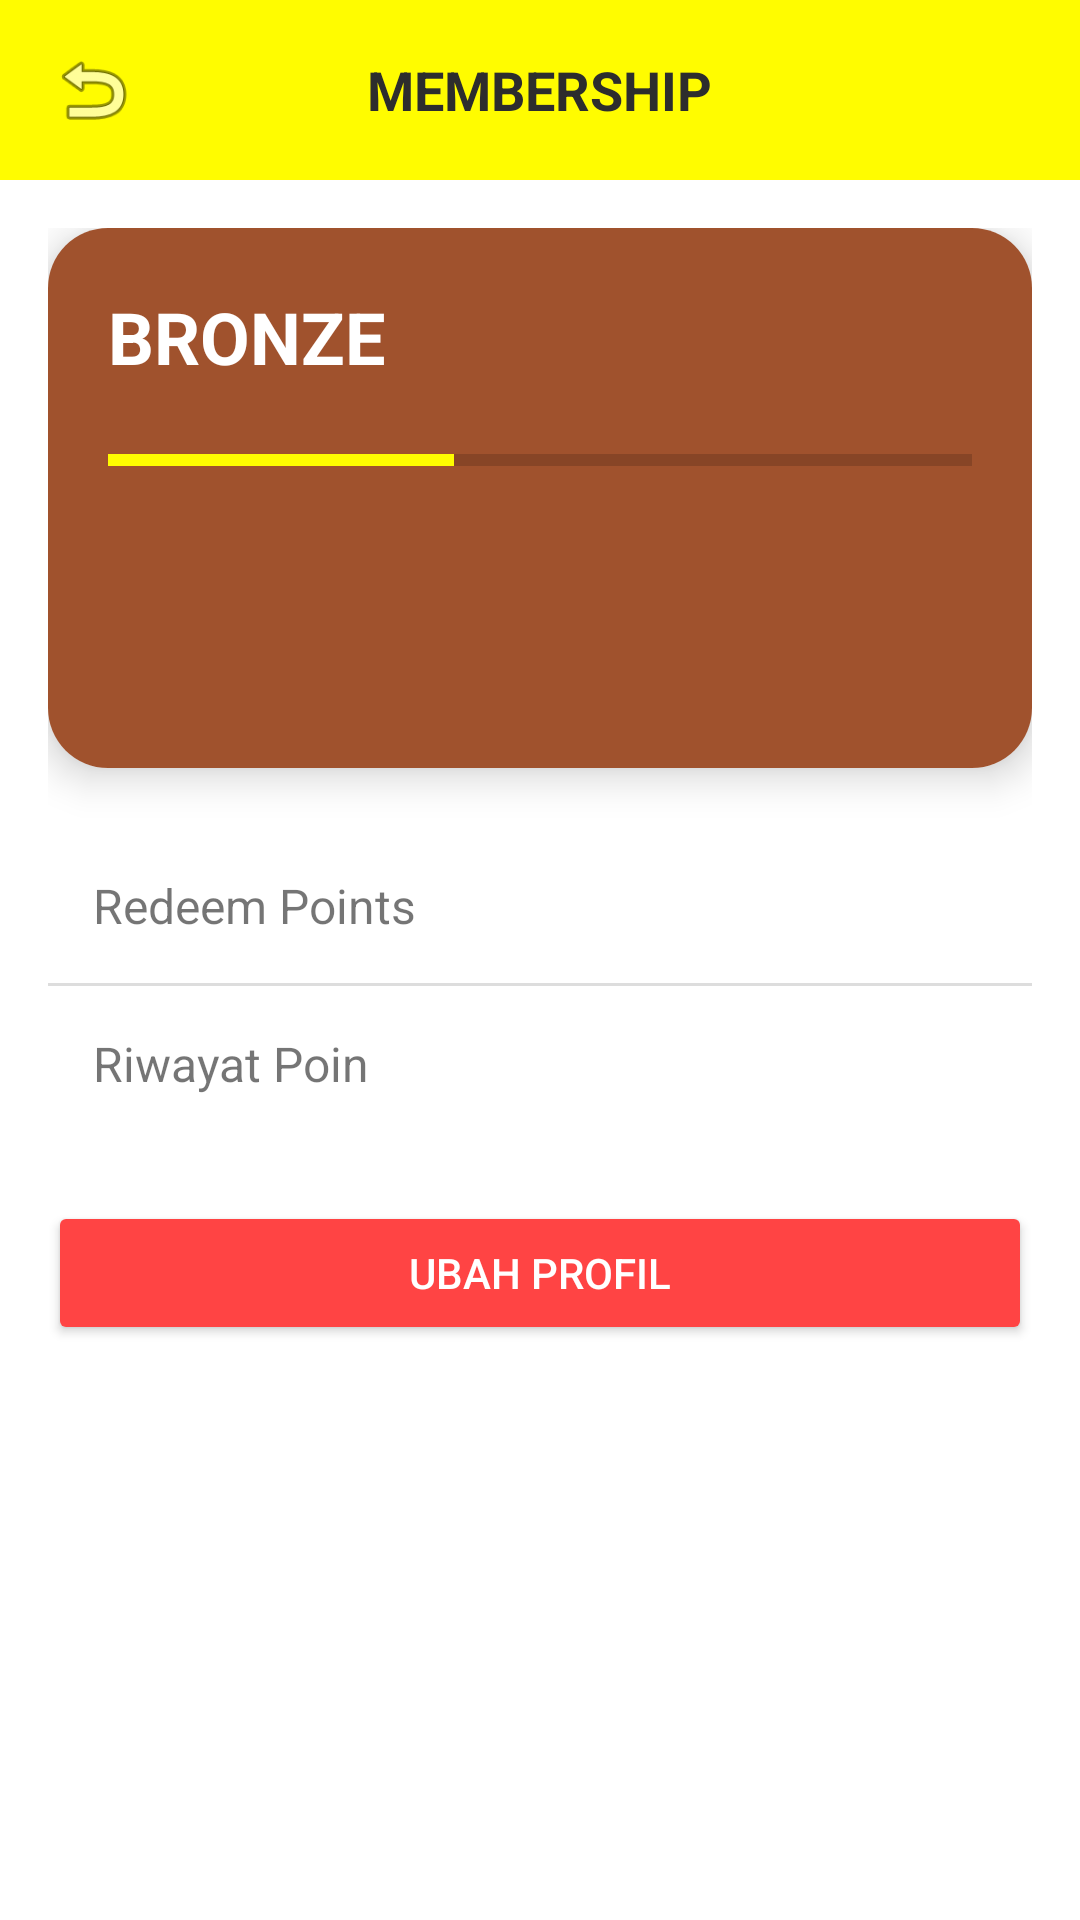

Icon click points for this 1080px×1920px phone screenshot, format (x=x, y=y):
revert: (x=94, y=90)
